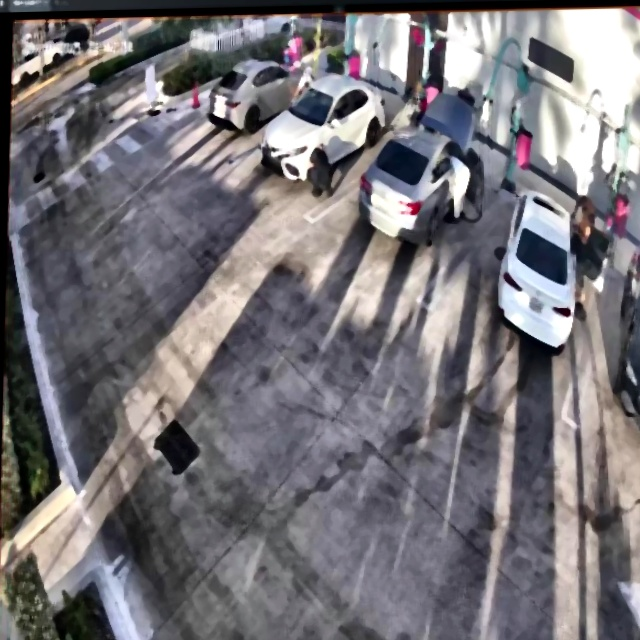Car: (358, 94, 477, 240), (261, 74, 386, 184), (501, 186, 579, 355)
